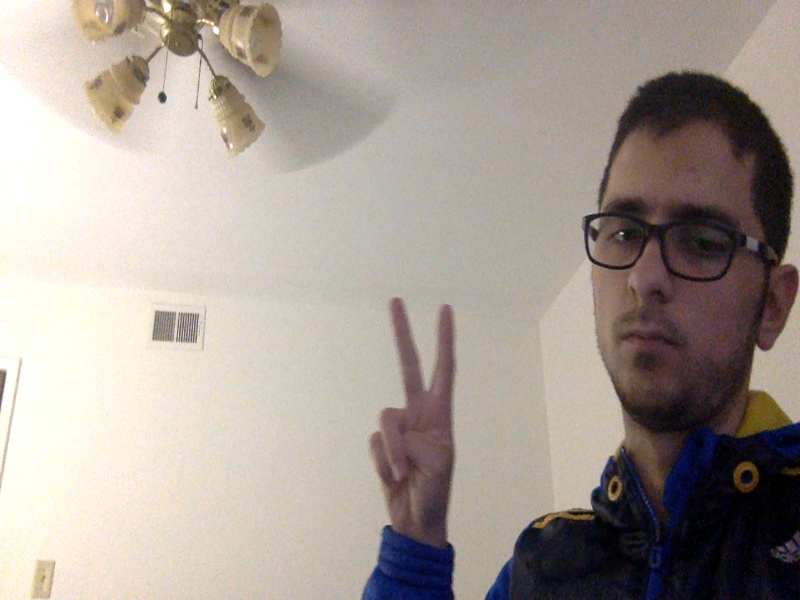2-hand: (371, 299, 457, 535)
